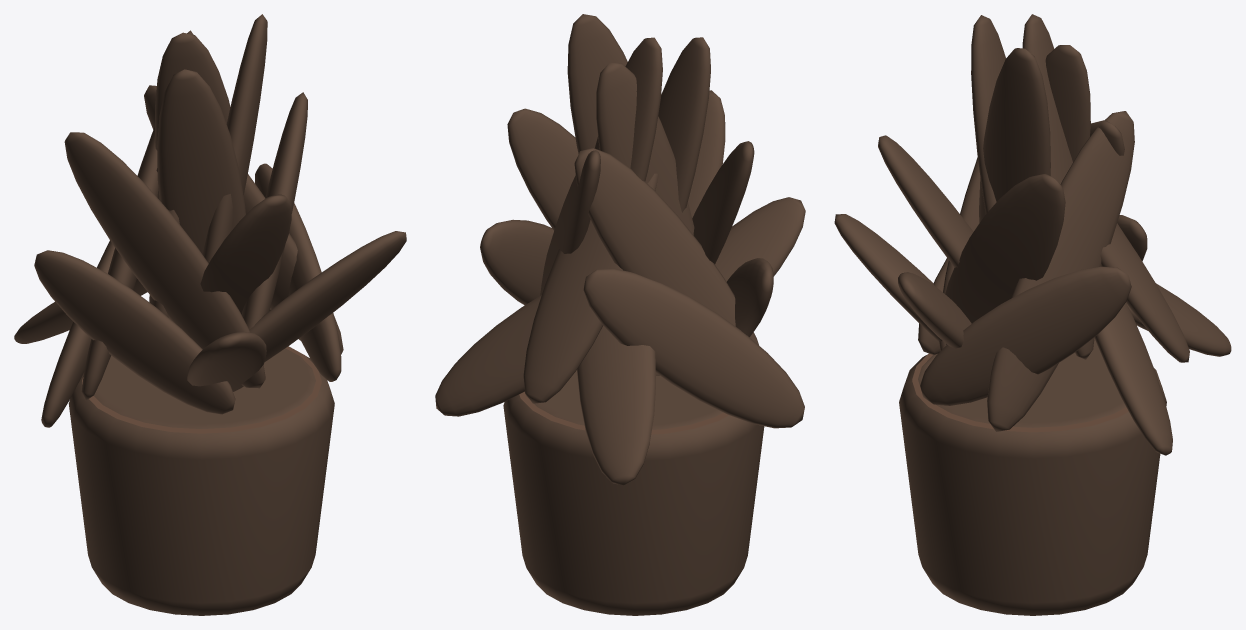
File: plant.glb
3 views of the same model, side by side, from view 1: azimuth 30°, elevation 25°; view 2: azimuth 150°, elevation 25°; view 3: azimuth 270°, elevation 25° (orthographic).
Parts seen in each view (by area): view 1: plant; view 2: plant; view 3: plant.
Boxes of the visible parts, x1,y1,x2,y2 form: plant: (14, 14, 406, 615); plant: (435, 14, 805, 615); plant: (834, 14, 1231, 615).
Bounding box in the file's own units: 0.4321 × 0.7407 × 0.4771.
